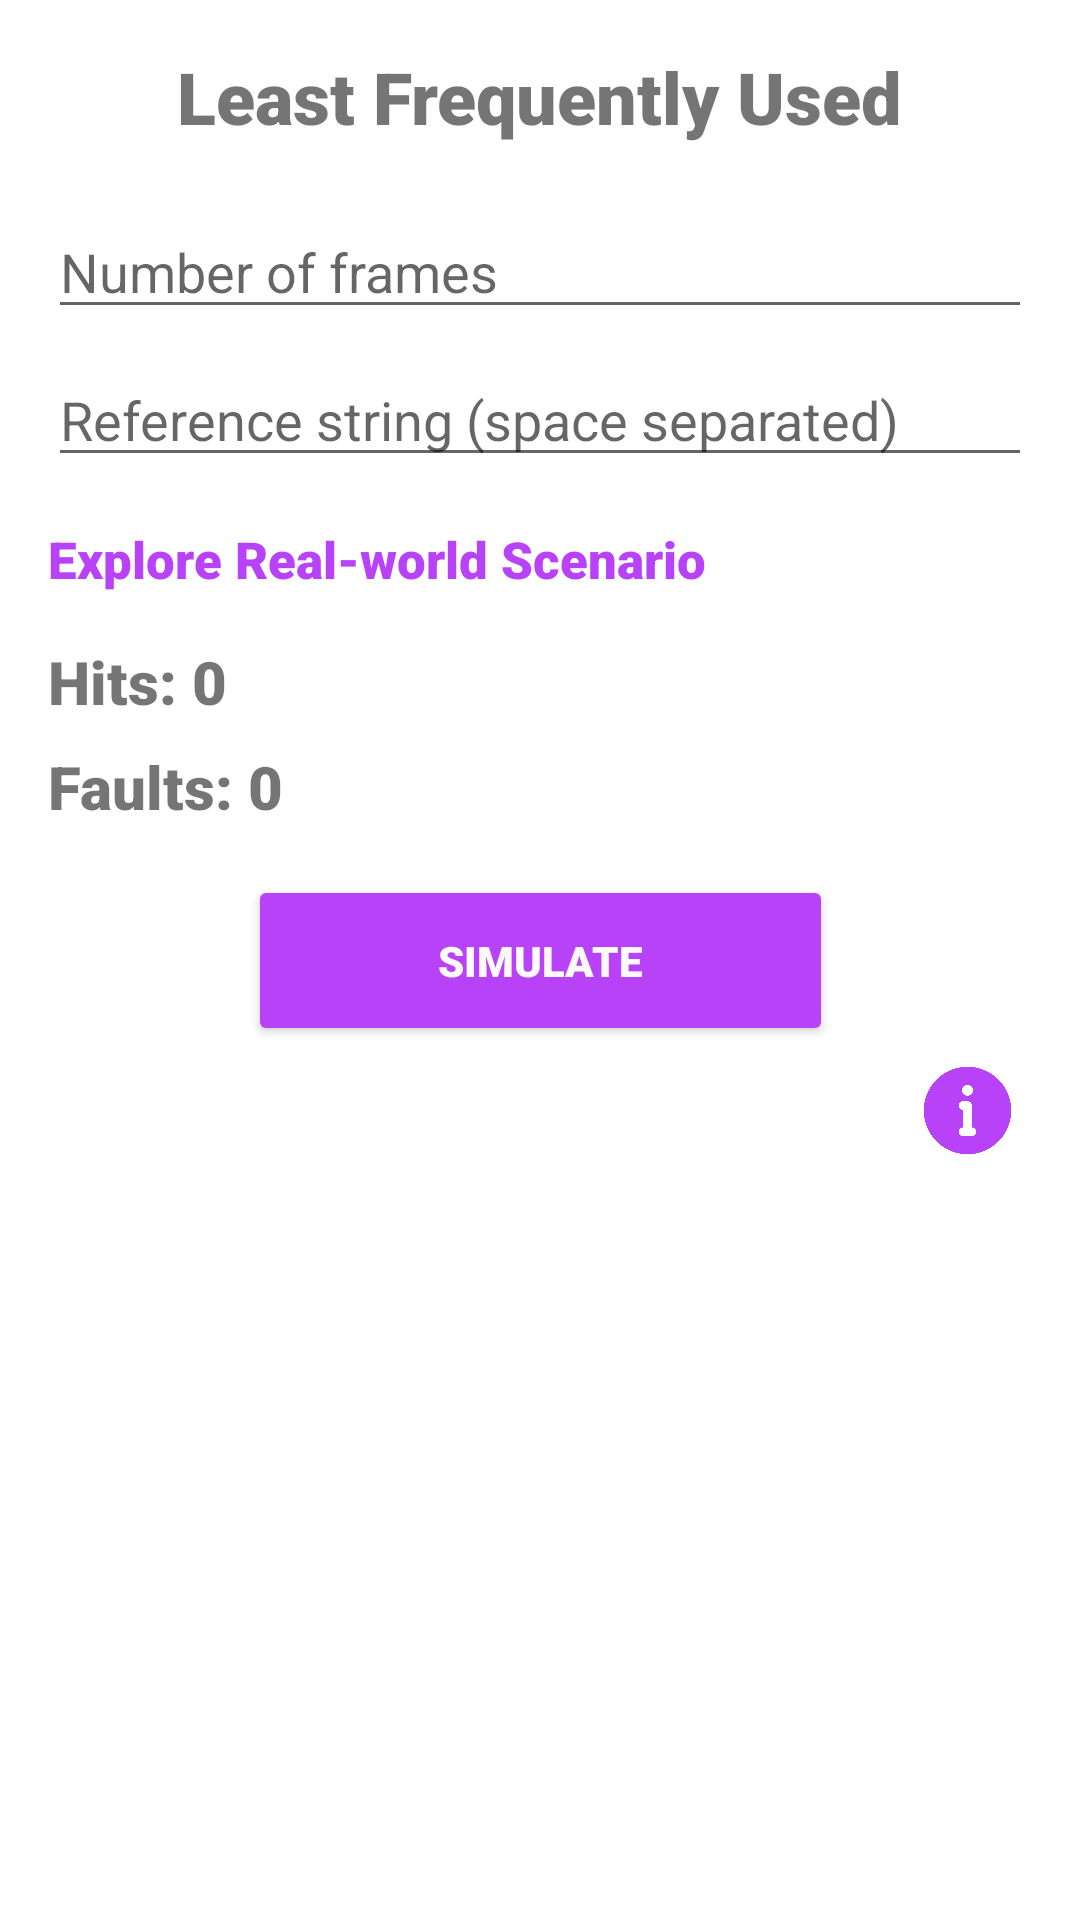

Point at icon controls on the screen. Image size 1080*1920, points as [x,y].
information: [967,1110]
